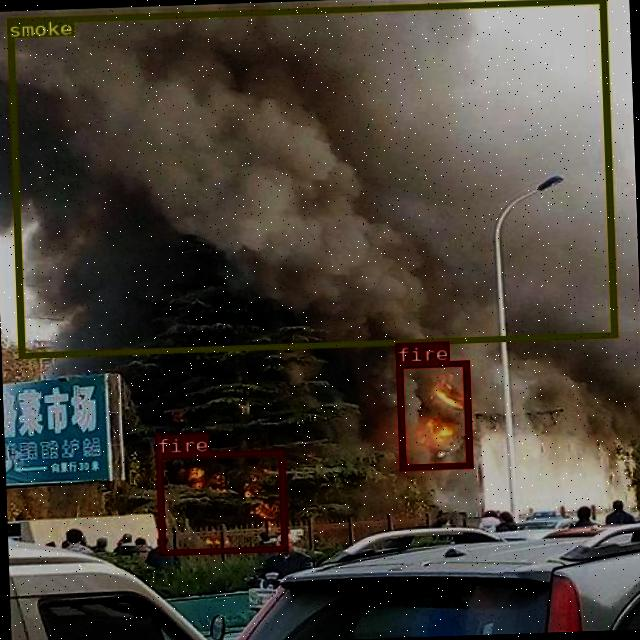fire: (156, 449, 286, 554), (395, 359, 471, 468)
smoke: (5, 0, 617, 356)
